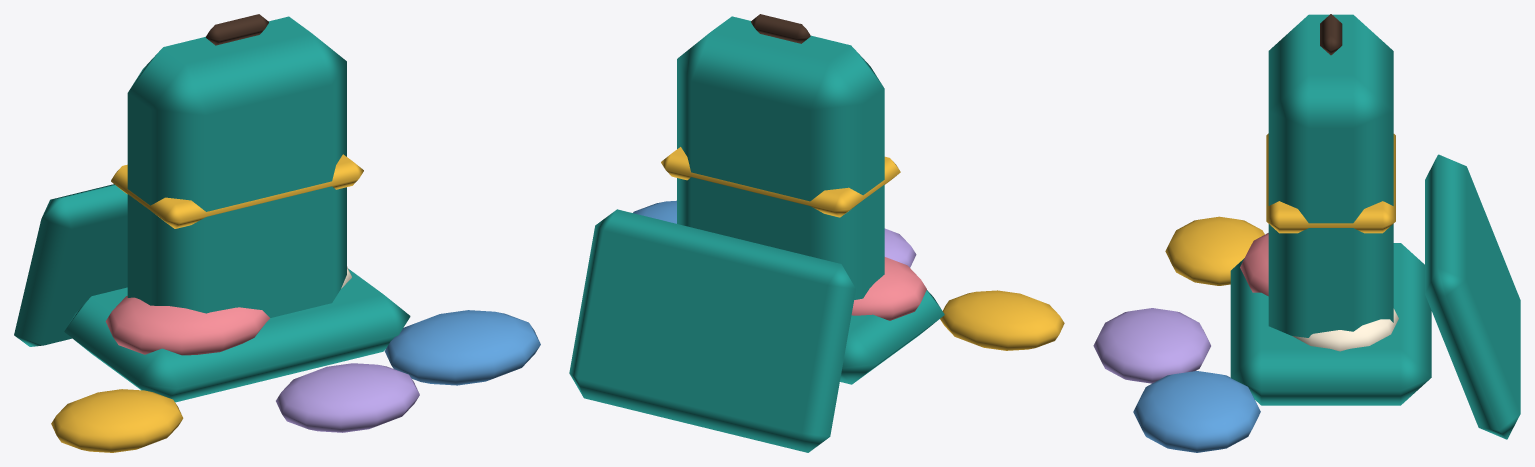
File: tidy_luggage.glb
The picture shows the model from 3 angles, left to right: view 1: azimuth 30°, elevation 25°; view 2: azimuth 150°, elevation 25°; view 3: azimuth 270°, elevation 25°; orthographic projection. The views are drawn at different scales.
Visible parts, largest first — view 1: TCase, MBase, MLid, MCloth2, MCloth4, MCloth0, MCloth3, TStripe, THandle; view 2: MLid, TCase, MCloth3, MBase, MCloth0, TStripe, THandle, MCloth4, MCloth2; view 3: TCase, MLid, MBase, MCloth2, MCloth4, MCloth3, TStripe, MCloth1, MCloth0, THandle.
Boxes of the visible parts, bbox=[...] form: TCase: bbox=[127, 16, 346, 317]; MBase: bbox=[64, 268, 410, 402]; MLid: bbox=[14, 184, 127, 346]; MCloth2: bbox=[384, 310, 540, 385]; MCloth4: bbox=[276, 363, 419, 432]; MCloth0: bbox=[105, 296, 269, 355]; MCloth3: bbox=[51, 389, 183, 452]; TStripe: bbox=[111, 154, 363, 228]; THandle: bbox=[205, 14, 268, 45]; MLid: bbox=[569, 209, 855, 452]; TCase: bbox=[677, 16, 884, 299]; MCloth3: bbox=[940, 290, 1064, 350]; MBase: bbox=[840, 290, 944, 384]; MCloth0: bbox=[851, 257, 926, 320]; TStripe: bbox=[661, 147, 900, 217]; THandle: bbox=[751, 14, 810, 43]; MCloth4: bbox=[884, 228, 916, 267]; MCloth2: bbox=[633, 200, 676, 223]; TCase: bbox=[1268, 14, 1393, 337]; MLid: bbox=[1425, 154, 1520, 439]; MBase: bbox=[1230, 243, 1431, 405]; MCloth2: bbox=[1133, 371, 1260, 452]; MCloth4: bbox=[1093, 308, 1210, 383]; MCloth3: bbox=[1165, 216, 1264, 285]; TStripe: bbox=[1266, 133, 1395, 233]; MCloth1: bbox=[1292, 308, 1398, 351]; MCloth0: bbox=[1240, 233, 1268, 296]; THandle: bbox=[1320, 14, 1342, 55].
Size of the model in its own units: 1.19 by 0.8847 by 0.9562.
